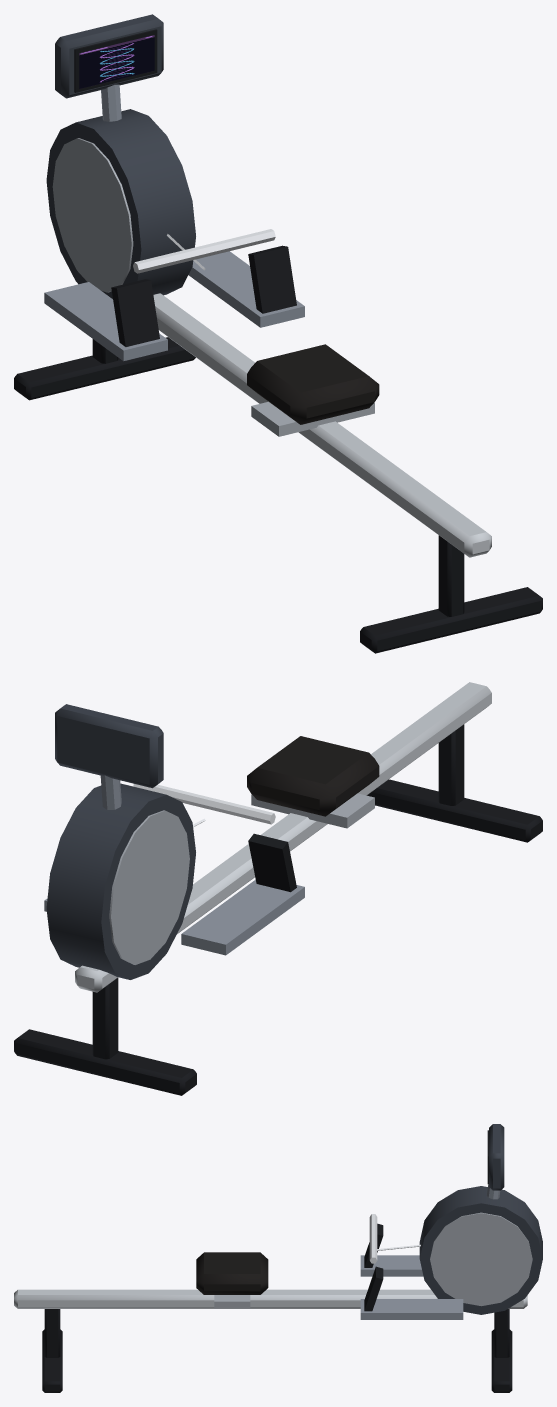
The model's file is gym_rowing_machine.glb.
3 renders of one model, top to bottom at view 1: azimuth 30°, elevation 25°; view 2: azimuth 150°, elevation 25°; view 3: azimuth 270°, elevation 25°, orthographic. The views are drawn at different scales.
Parts seen in each view (by area): view 1: gym_rowing_machine; view 2: gym_rowing_machine; view 3: gym_rowing_machine.
Boxes of the visible parts, box(x1,y1,x2,y2) form: gym_rowing_machine: box(14, 14, 542, 653); gym_rowing_machine: box(14, 682, 542, 1095); gym_rowing_machine: box(14, 1124, 542, 1392).
Bounding box in the file's own units: 0.53 × 0.98 × 2.06.
Materials: 8 (1 with a texture image).
